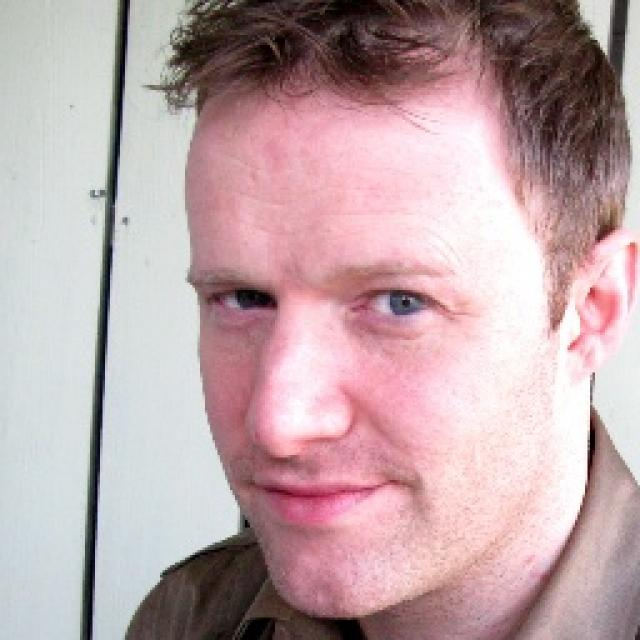earlobe: (558, 343, 606, 387)
eye: (348, 288, 447, 322), (204, 286, 276, 316)
nose: (253, 444, 348, 472)
wholeear: (558, 225, 640, 388)
